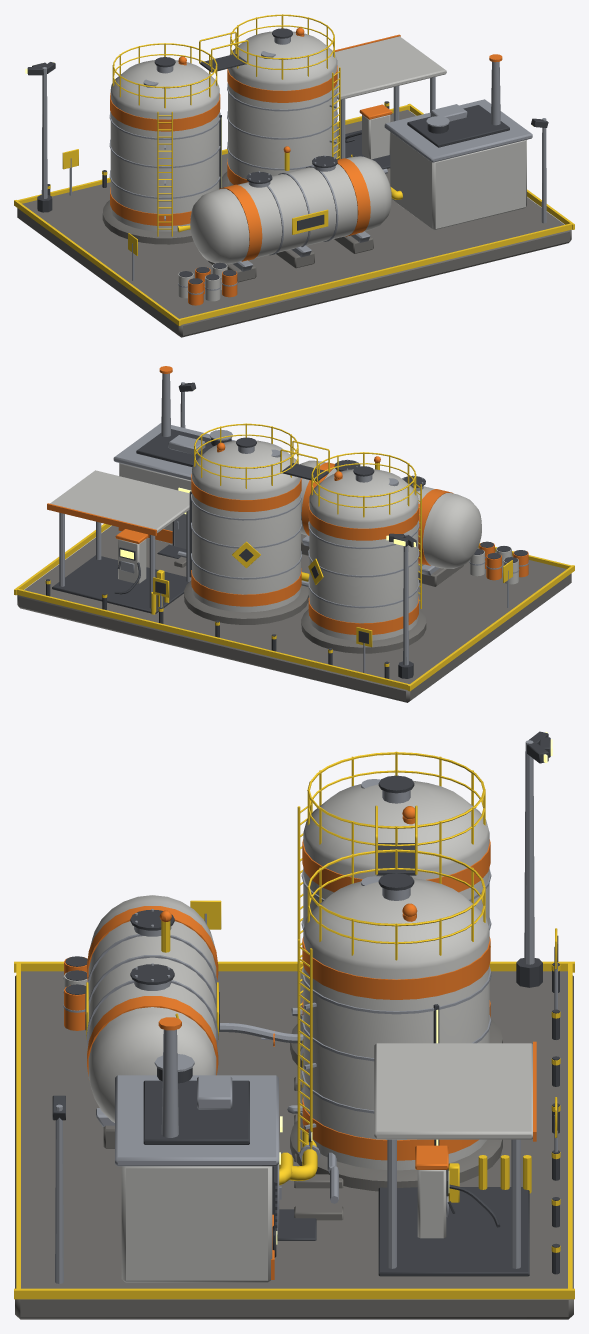
File: fuel_depot_a.glb
3 renders of one model, top to bottom at view 1: azimuth 30°, elevation 25°; view 2: azimuth 150°, elevation 25°; view 3: azimuth 270°, elevation 25°, orthographic. The views are drawn at different scales.
Parts seen in each view (by area): view 1: Depot; view 2: Depot; view 3: Depot.
Part boxes in pixels (x1,y1,x2,y2): Depot: (14,14,574,337); Depot: (14,366,574,702); Depot: (14,731,574,1319).
Bounding box in the file's own units: 17.54 × 7.59 × 12.65.
